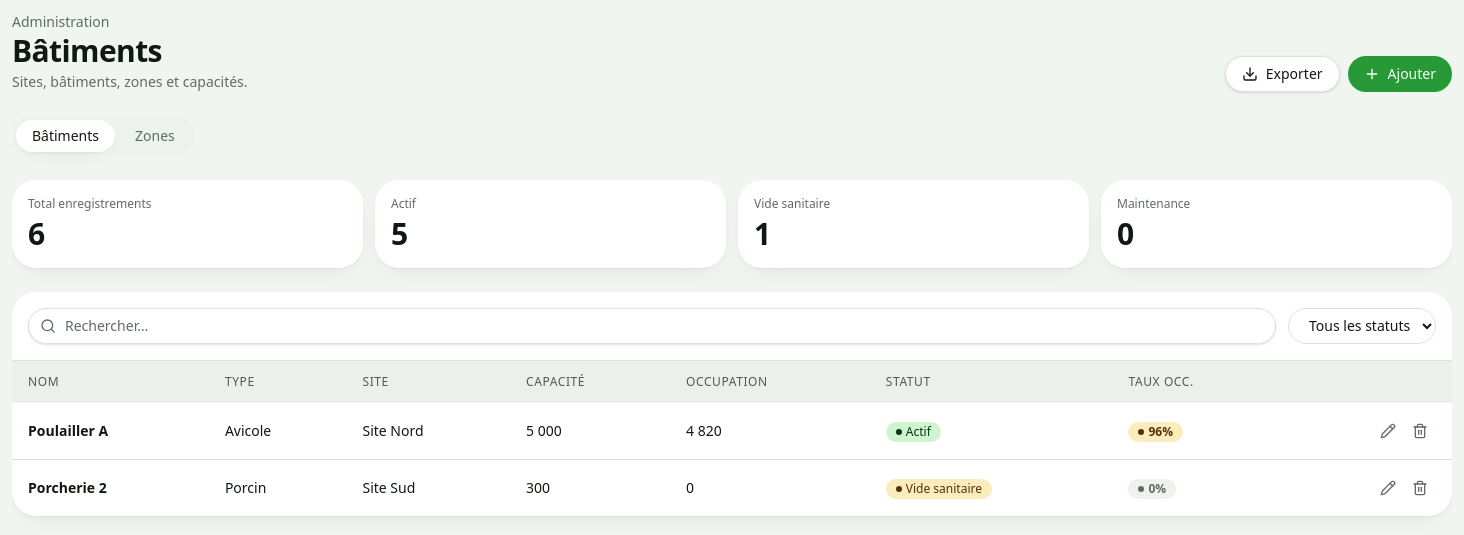
it: ModulePage with the batiments config › shows the empty state
Check: the text "Poulailler A" is shown, box [12,402,209,459]
Type "zzz" into the search field with placeholder "Rechercher…" at (652, 326), box [28,308,1276,344]
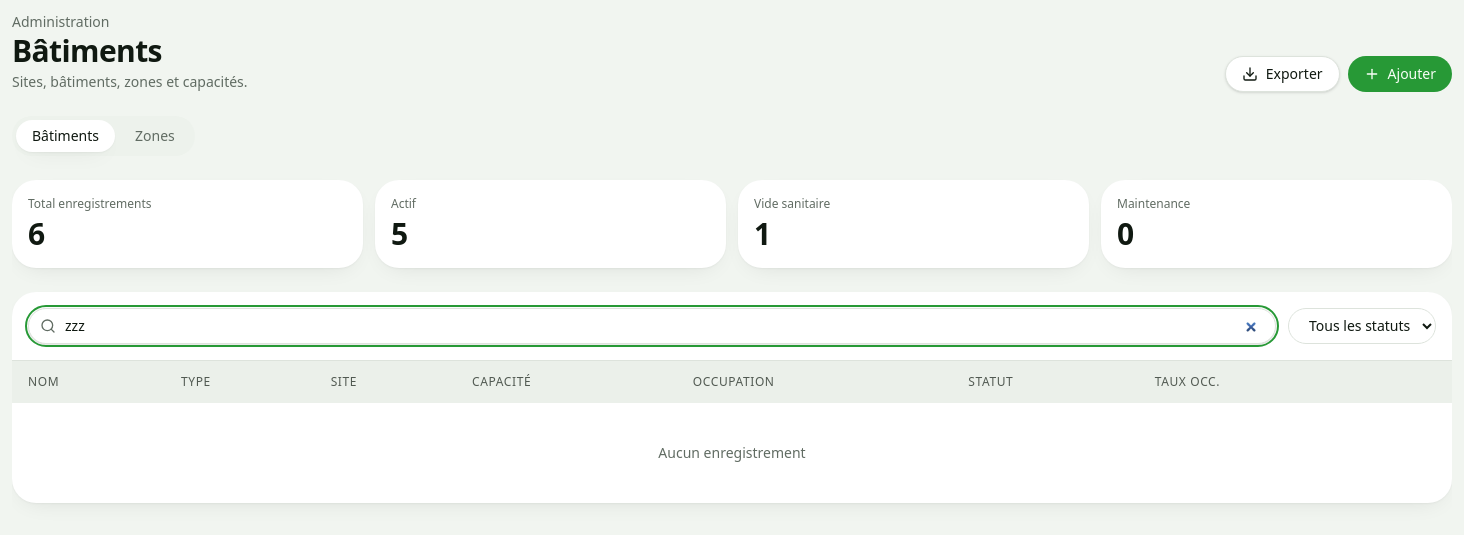
Check: the text "Aucun enregistrement" is shown, box [12,402,1452,502]
